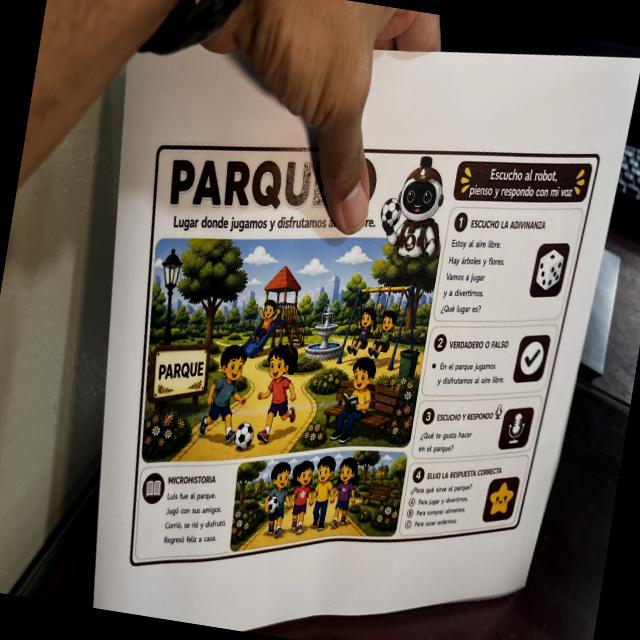parque: (88, 80, 604, 634)
